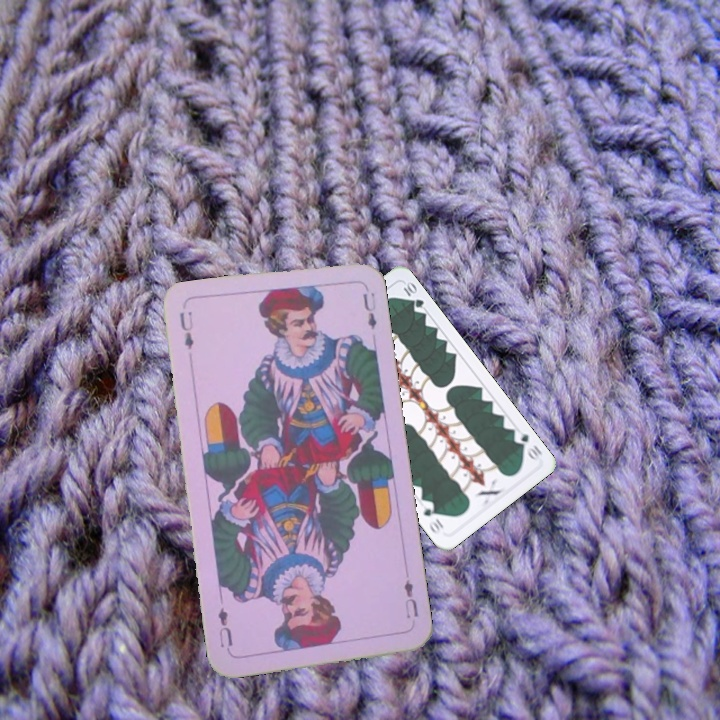EU: (399, 575, 421, 622), (175, 307, 197, 352)
G10: (509, 426, 545, 464)
